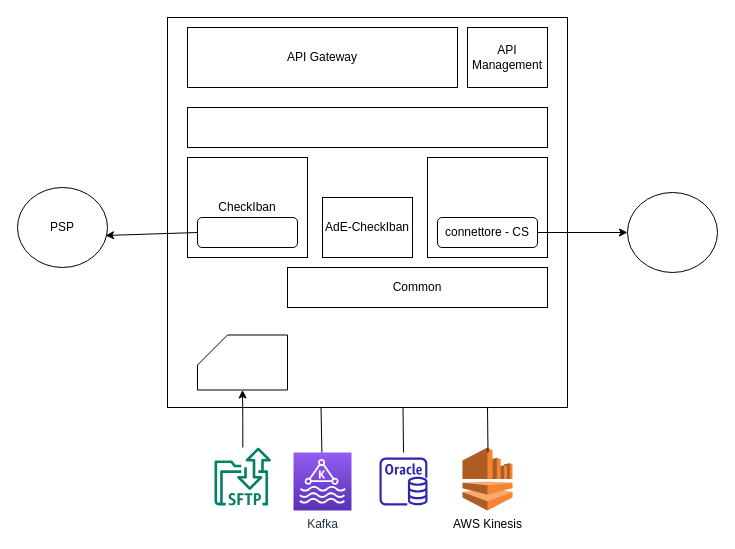
Image size: 735x549. Some labels were removed from this diagram. The box of each missing label's shape, as (x1, y1, x2, y2) in pixels:
AdE-In/Out Folder: (196, 334, 288, 390)
Co-Badge: (426, 156, 548, 258)
connettore-PSP: (196, 216, 298, 248)
CS: (626, 192, 718, 272)
WEB: (186, 106, 548, 148)
